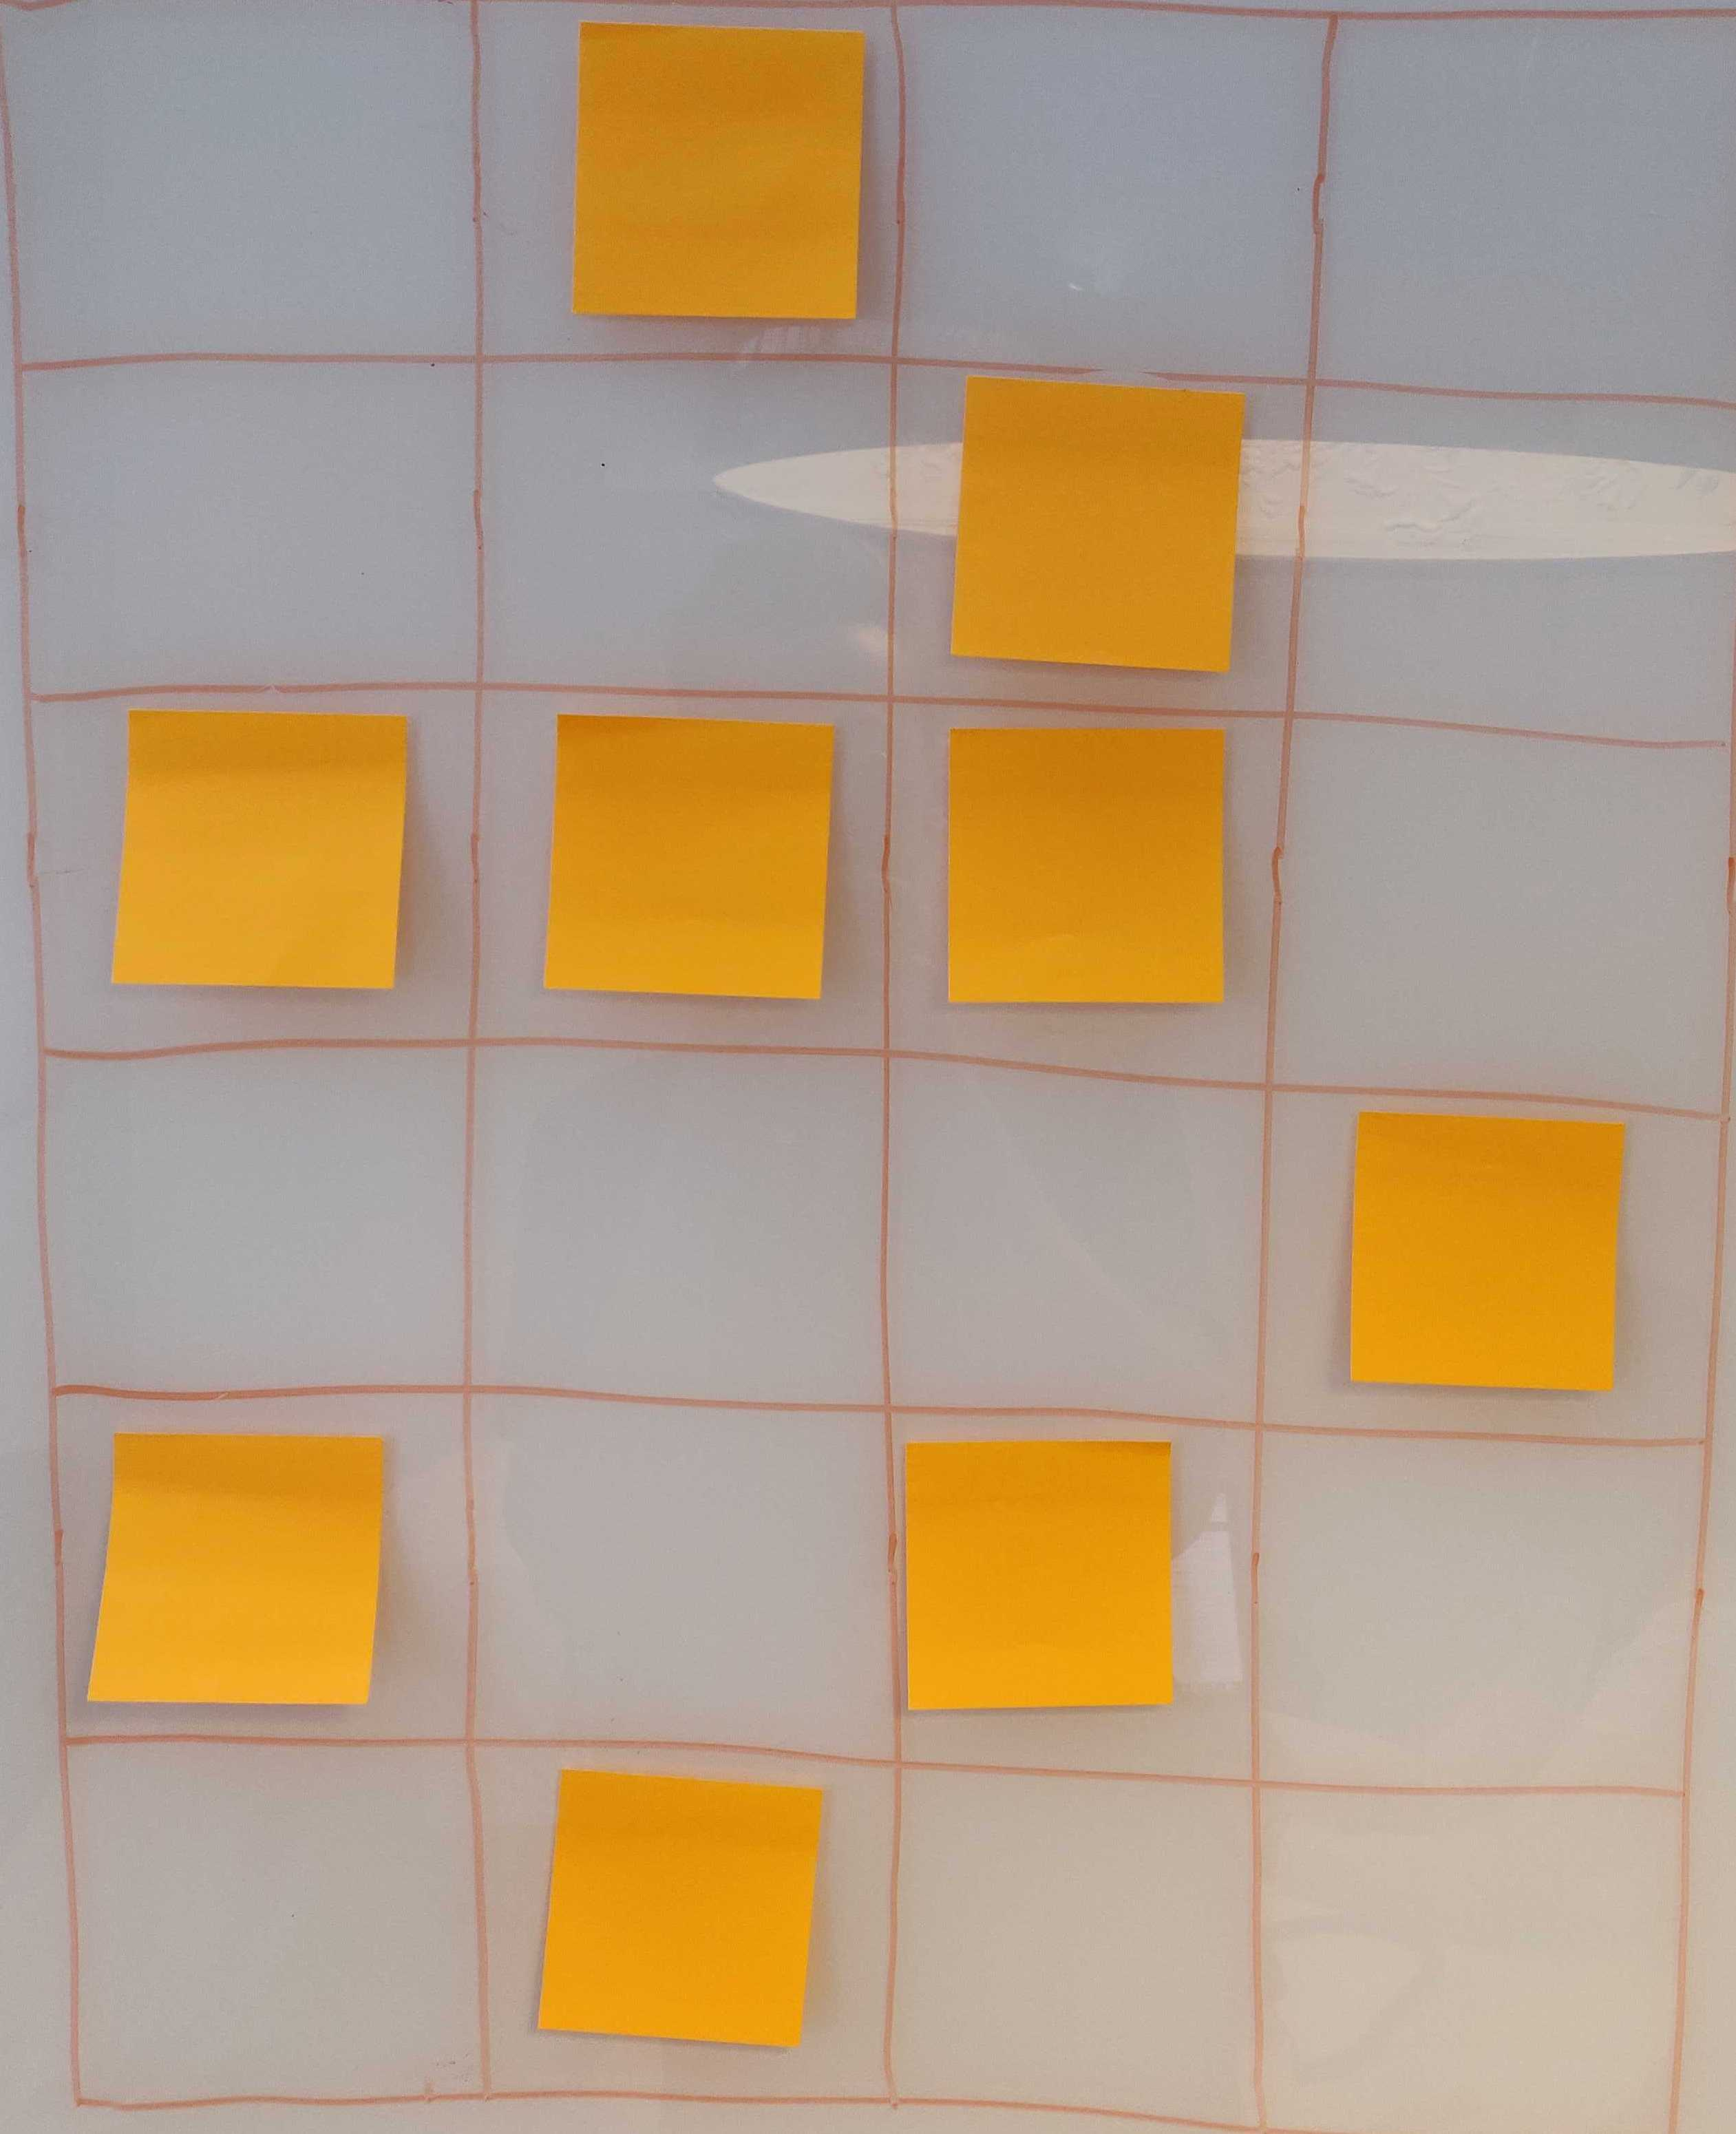stickynote: (69, 677, 421, 1041), (553, 14, 924, 352), (934, 360, 1273, 719), (66, 1419, 430, 1744), (509, 699, 856, 1029), (516, 1744, 865, 2064), (1335, 1081, 1655, 1422), (909, 717, 1242, 1029), (892, 1427, 1207, 1737)
